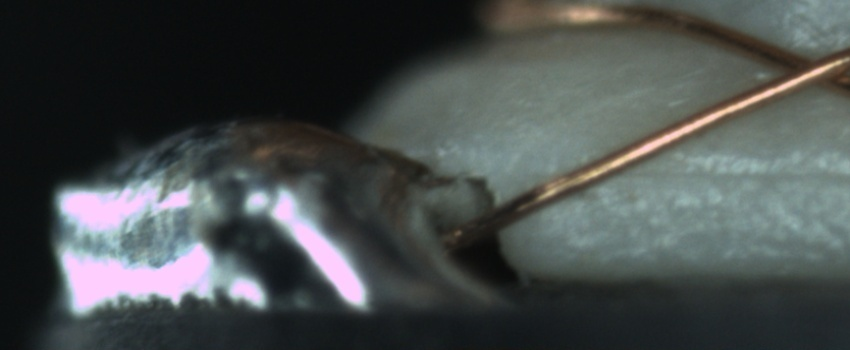CL: (751, 37, 850, 100)
DL: (608, 137, 848, 207)
